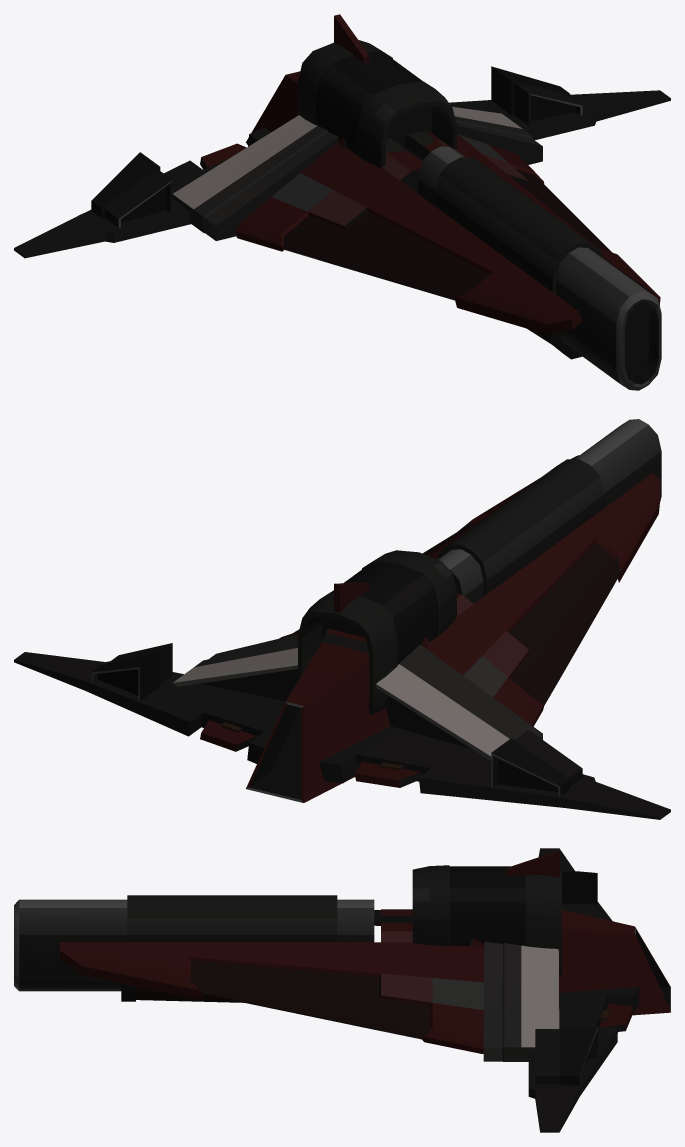
File: omen.obj
3 views of the same model, one above another, from view 1: azimuth 30°, elevation 25°; view 2: azimuth 150°, elevation 25°; view 3: azimuth 270°, elevation 25° (orthographic). The views are drawn at different scales.
Visible parts, largest first — view 1: Omen_Cube.021; view 2: Omen_Cube.021; view 3: Omen_Cube.021.
Boxes of the visible parts, x1,y1,x2,y2 form: Omen_Cube.021: (14,14,670,390); Omen_Cube.021: (14,419,670,819); Omen_Cube.021: (14,848,670,1132).
Bounding box in the file's own units: 12.78 × 3.14 × 12.58.
